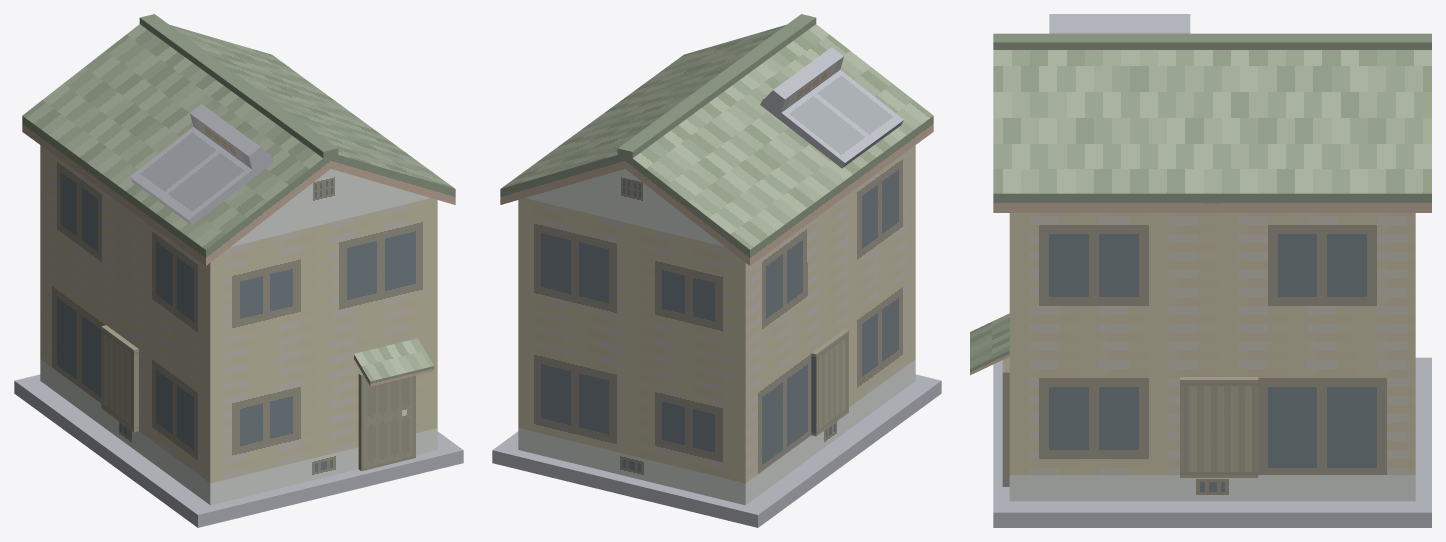
The model's file is 025c_Nikaido_Residence.glb.
3 renders of one model, left to right at view 1: azimuth 30°, elevation 25°; view 2: azimuth 150°, elevation 25°; view 3: azimuth 270°, elevation 25°, orthographic. The views are drawn at different scales.
Parts seen in each view (by area): view 1: part_0; view 2: part_0; view 3: part_0.
Boxes of the visible parts, bbox=[...] form: part_0: bbox=[14, 14, 463, 527]; part_0: bbox=[492, 14, 941, 527]; part_0: bbox=[970, 14, 1431, 527].
Bounding box in the file's own units: 5.38 × 6.68 × 6.77.
Materials: 1 (1 with a texture image).
